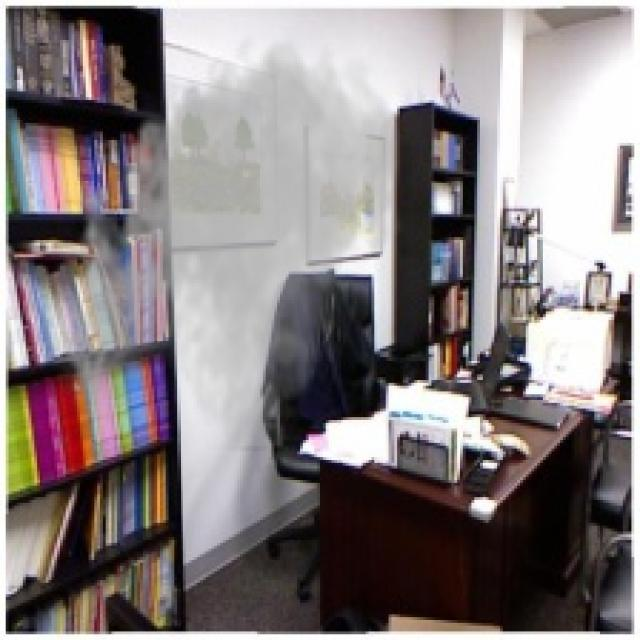smoke: (57, 26, 409, 451)
